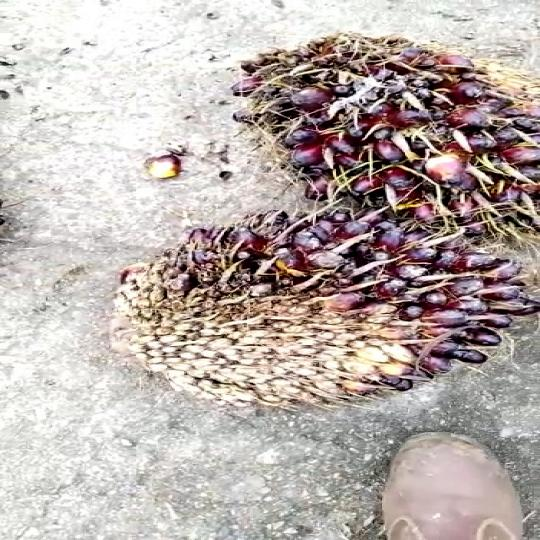kurang masak: (88, 206, 535, 433), (216, 40, 540, 264)
